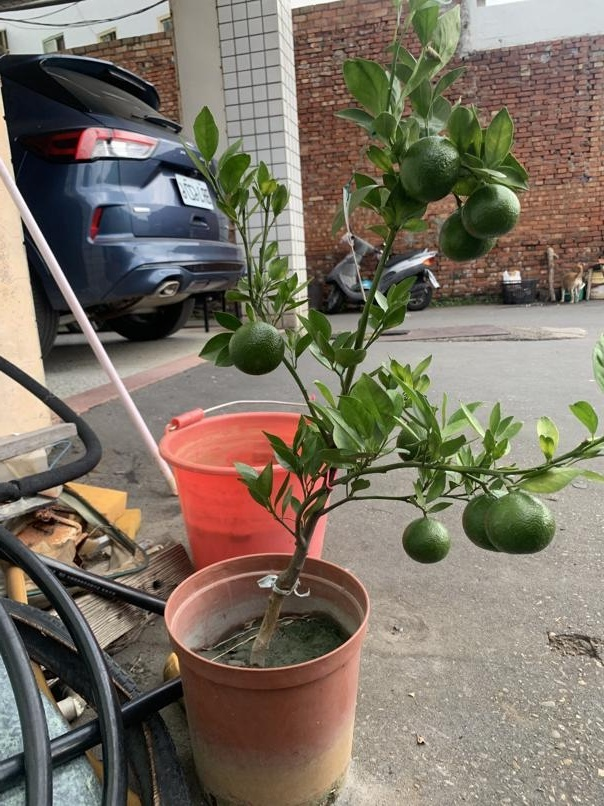Tangerine: (462, 486, 556, 557), (394, 136, 461, 200), (464, 182, 521, 239), (230, 320, 285, 377), (438, 210, 497, 262), (400, 510, 452, 564)
